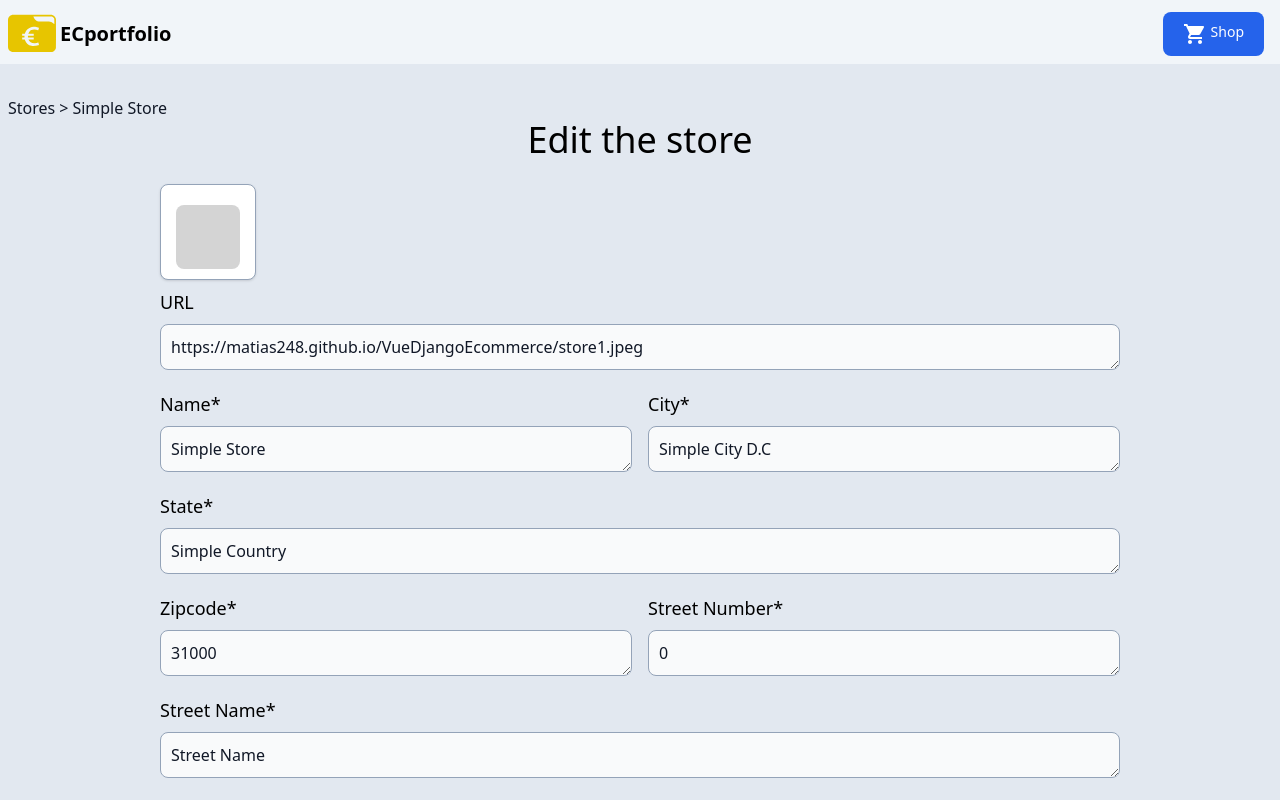
Scenario: Navigation bar test › In Store form to store view
Click the text with id "NavStoreName": (120, 108) [72, 96, 167, 120]
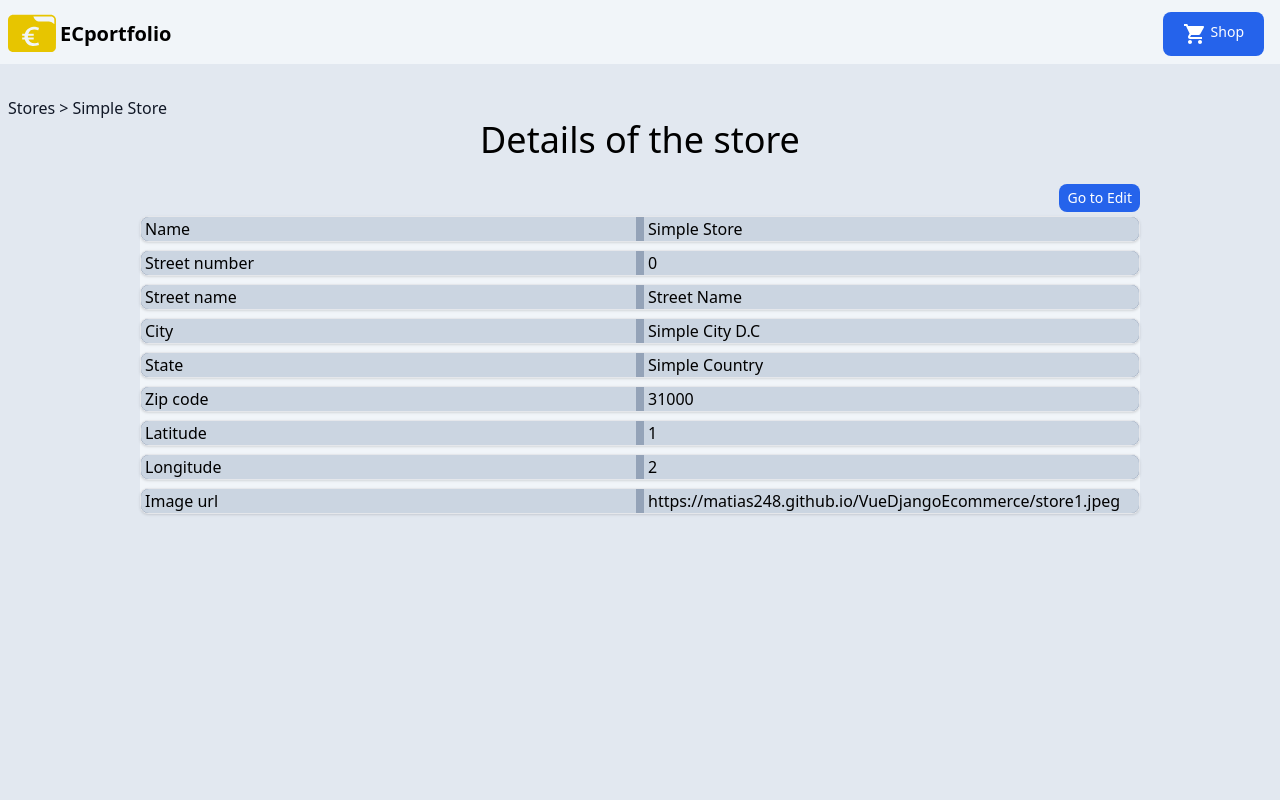
Result: the text "Details of the store" is shown at [480, 115, 800, 164]
